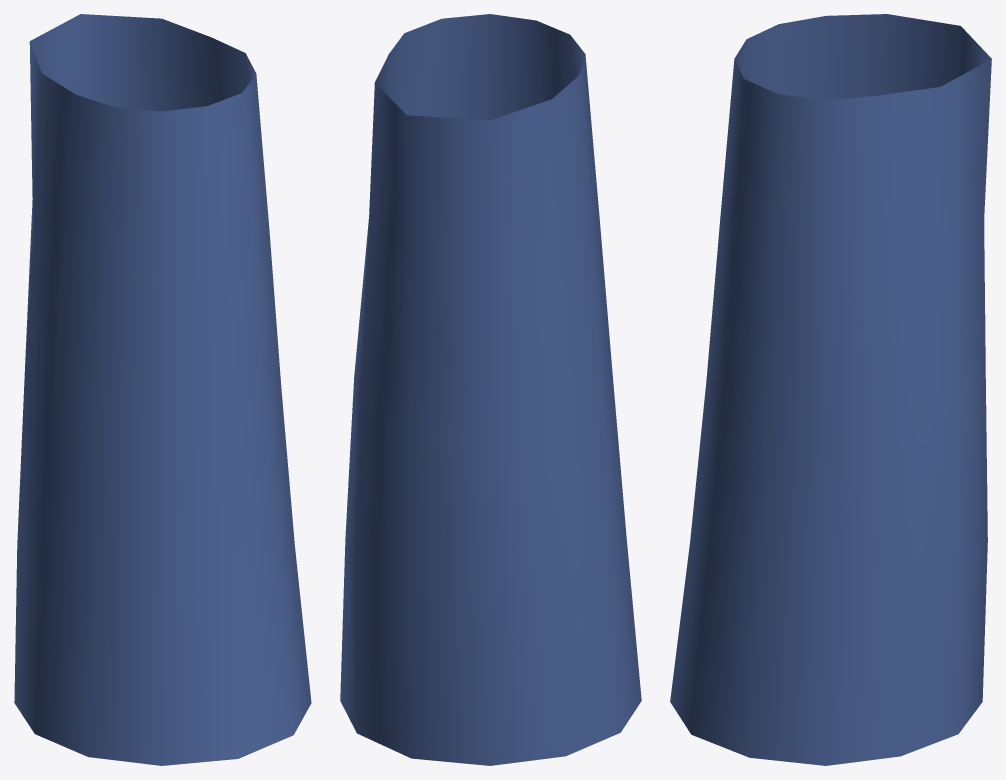
The model's file is spectre_armor_greave.L.glb.
The picture shows the model from 3 angles, left to right: view 1: azimuth 30°, elevation 25°; view 2: azimuth 150°, elevation 25°; view 3: azimuth 270°, elevation 25°; orthographic projection. The views are drawn at different scales.
Visible parts, largest first — view 1: spectre_armor_greave.L; view 2: spectre_armor_greave.L; view 3: spectre_armor_greave.L.
Part boxes in pixels (box(x1,y1,x2,y2)): spectre_armor_greave.L: box(14, 14, 311, 765); spectre_armor_greave.L: box(340, 14, 641, 765); spectre_armor_greave.L: box(670, 14, 991, 765).
Bounding box in the file's own units: 0.1601 × 0.3767 × 0.1708.
